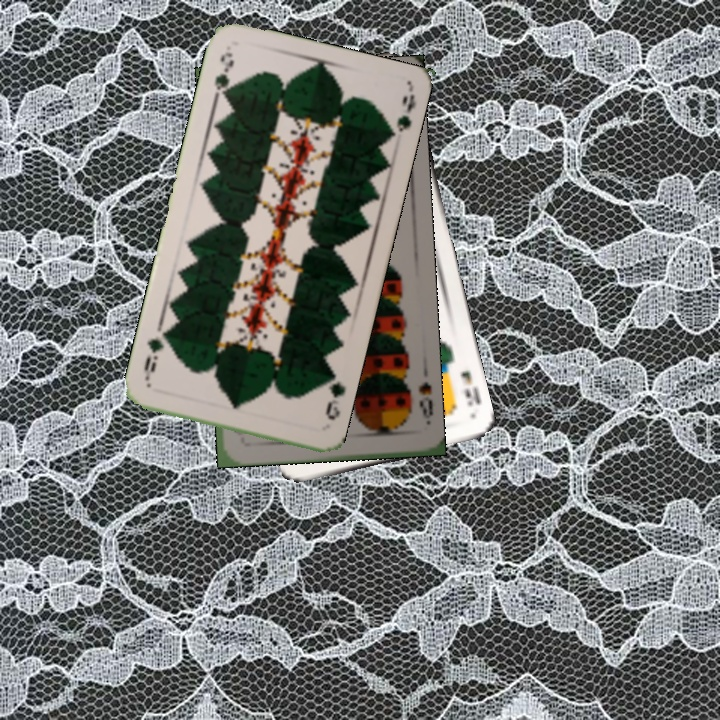EK: (456, 366, 483, 409)
G9: (210, 48, 237, 103), (321, 369, 348, 423)
S8: (414, 377, 435, 427)
